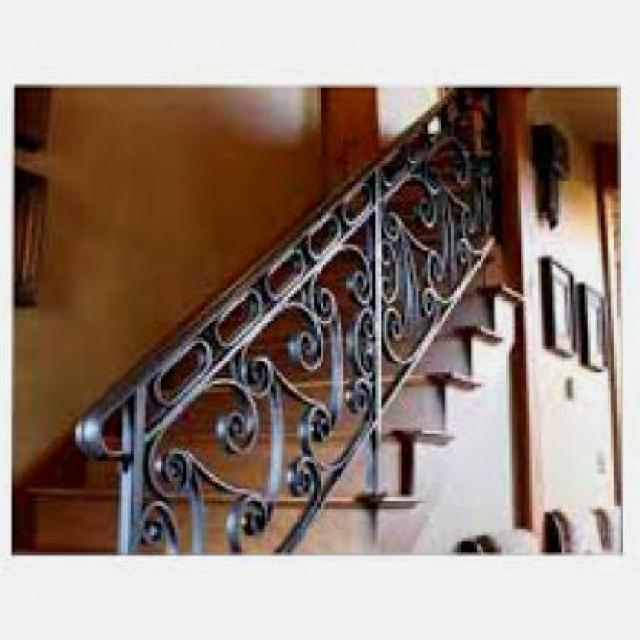stair: (11, 91, 527, 554)
